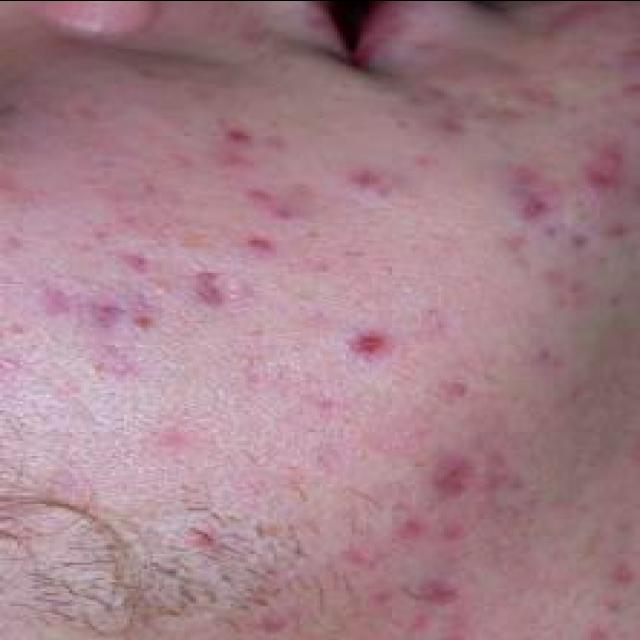Acne: (502, 162, 566, 225), (574, 140, 628, 202), (424, 450, 474, 500), (542, 269, 598, 313), (238, 186, 302, 222), (335, 161, 395, 198), (184, 267, 232, 310), (477, 447, 519, 495), (339, 328, 393, 362), (82, 293, 126, 333), (124, 288, 162, 332), (146, 423, 194, 457), (232, 227, 282, 259), (30, 282, 74, 318), (111, 248, 159, 278), (212, 120, 258, 150), (411, 580, 465, 604), (175, 524, 221, 552), (436, 374, 476, 402), (389, 513, 427, 539), (597, 217, 636, 242), (434, 517, 470, 543), (606, 561, 638, 587), (580, 623, 612, 640)
